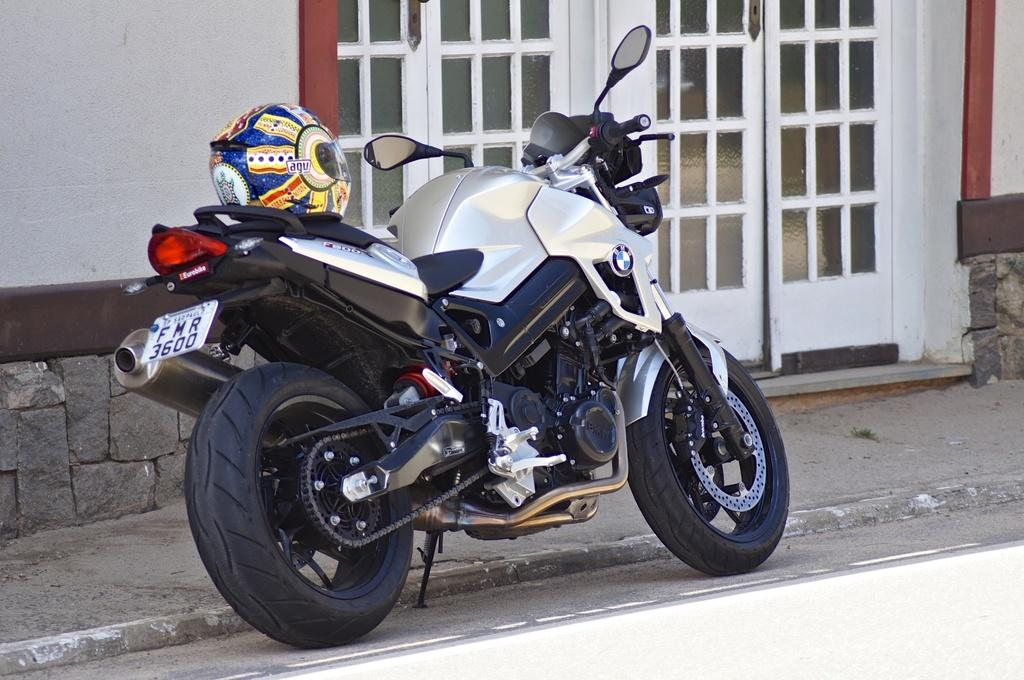helmet: (209, 102, 352, 222)
